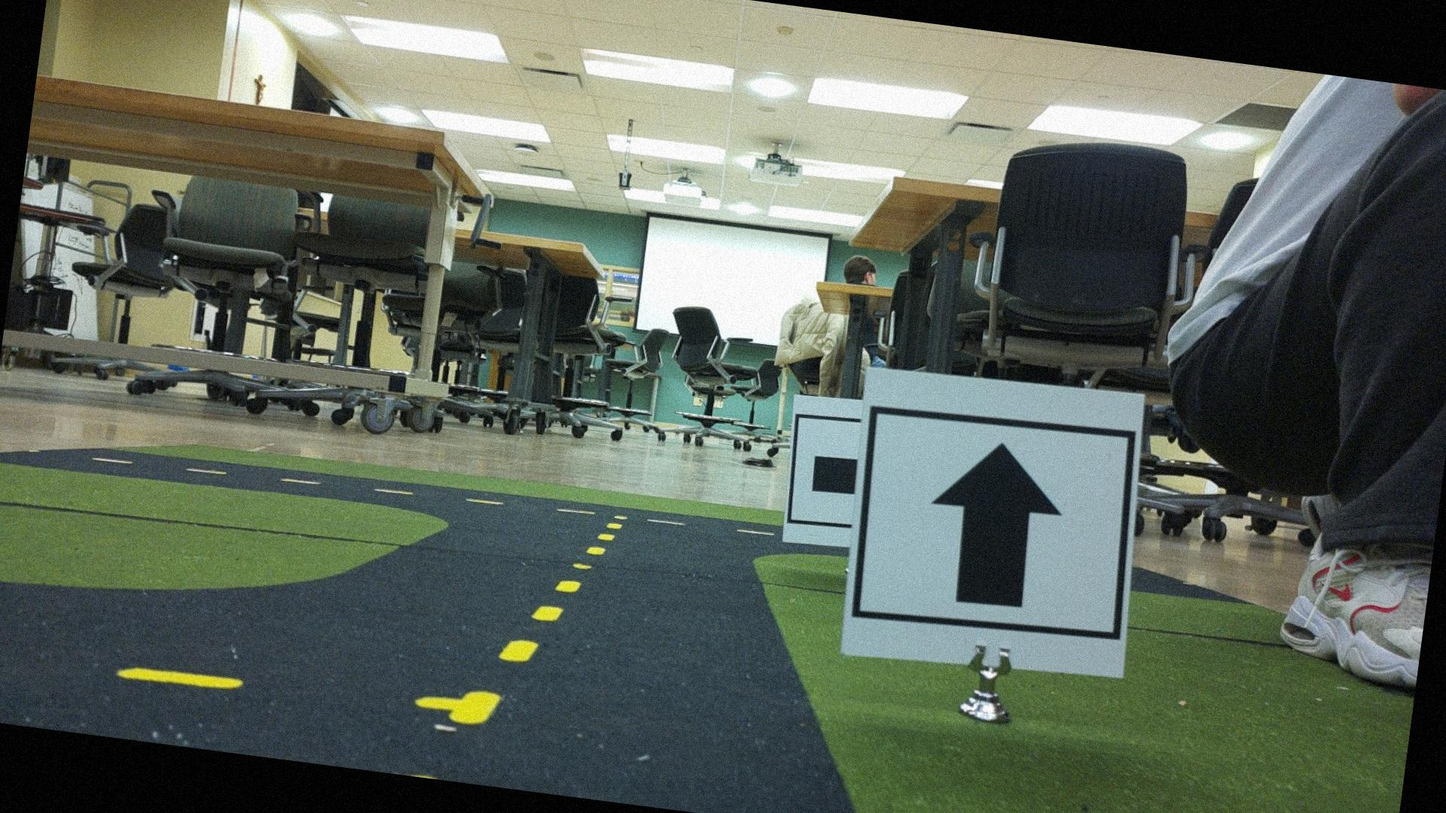gostraight: (847, 372, 1143, 677)
yellowline: (448, 493, 627, 744)
